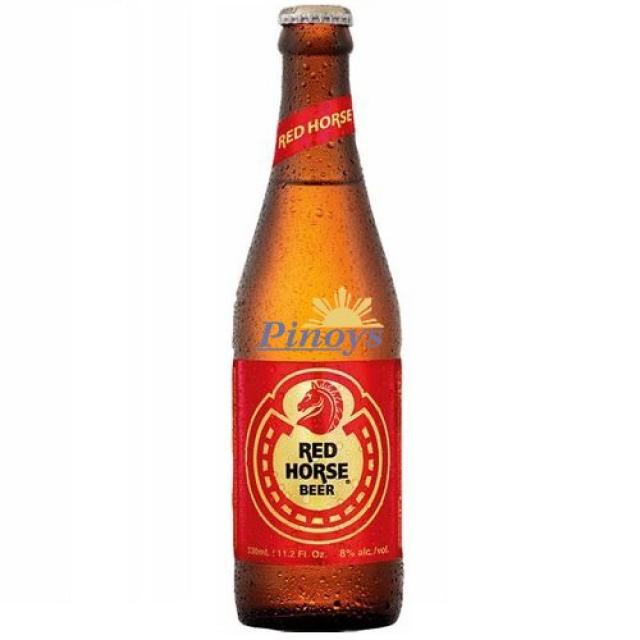Bottle: (220, 2, 410, 629)
